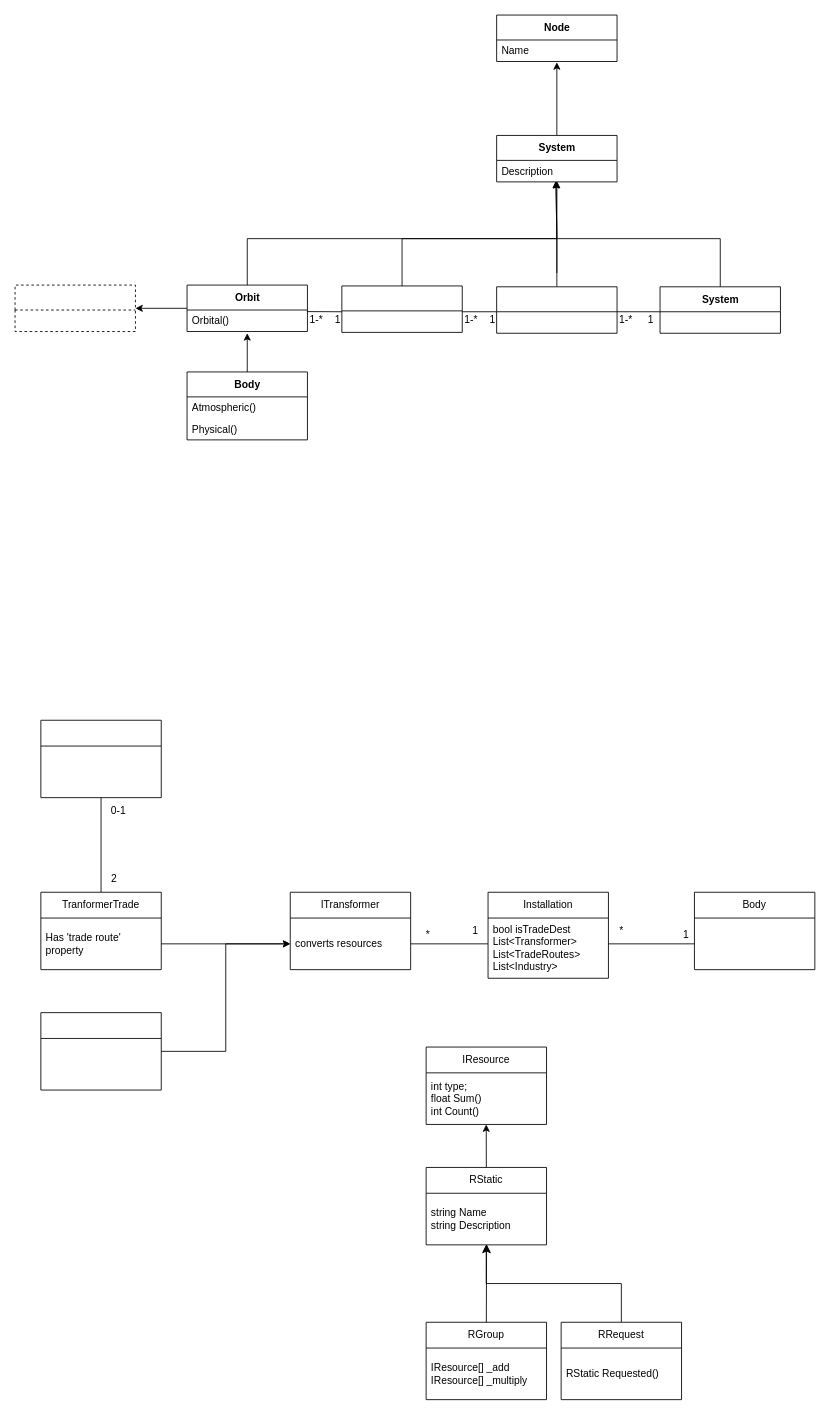
The diagram is 830 pixels wide and 1415 high, and some of its shapes have lost their labels. Each missing label, with the centre of its shape:
Barycenter: point 401,308
IInstallable: point 74,308
Industry: point 100,1051
Subsystem: point 556,309
TradeRoute: point 100,758
